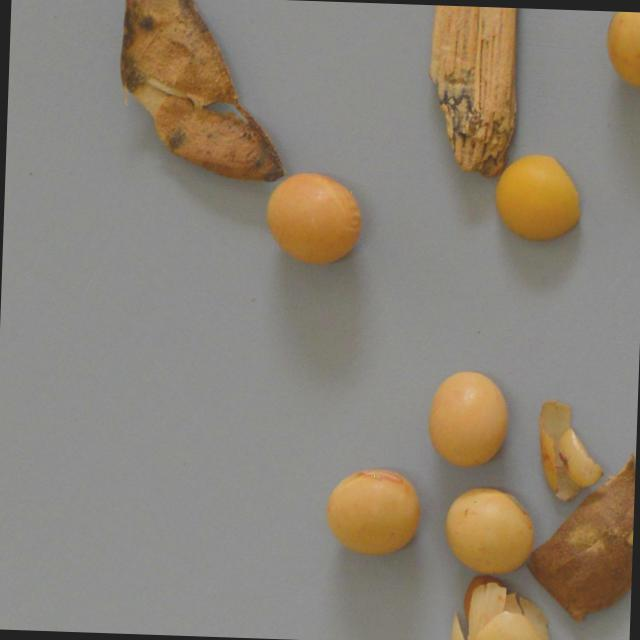cuerpos_extranos: (108, 0, 295, 189), (523, 451, 635, 624), (421, 4, 521, 176), (502, 395, 610, 506), (414, 366, 522, 471), (484, 146, 592, 251), (321, 458, 429, 562), (433, 476, 541, 580), (256, 169, 364, 273), (450, 575, 557, 640), (597, 10, 640, 96)
